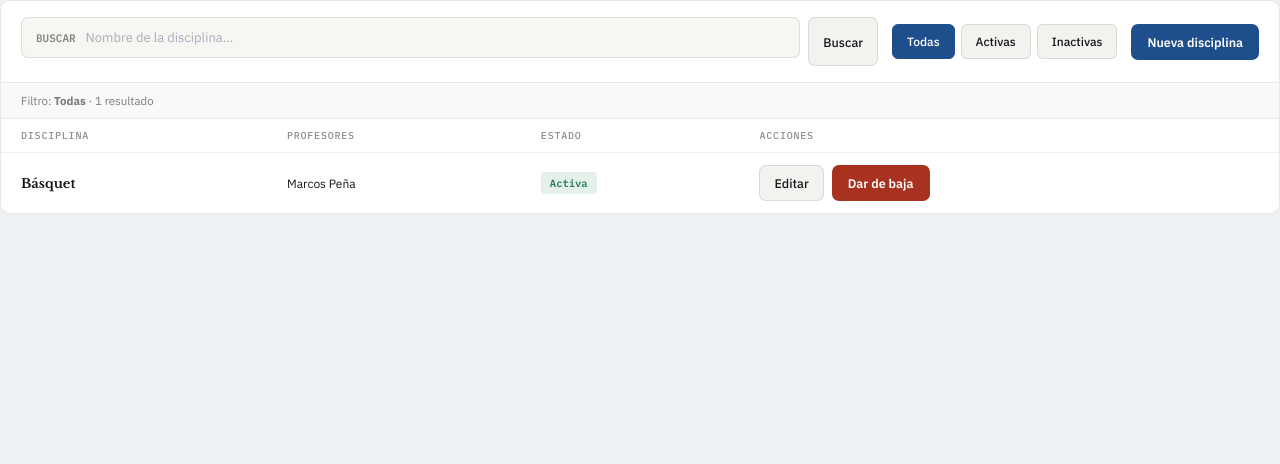
Test: DisciplinesView create and edit › keeps the status tab and search when coming back from the form
Expected: the text "Básquet" is shown, [21,174,75,192]
Click the radio button labelled "Activas" at (996, 42), box [961,24,1031,59]
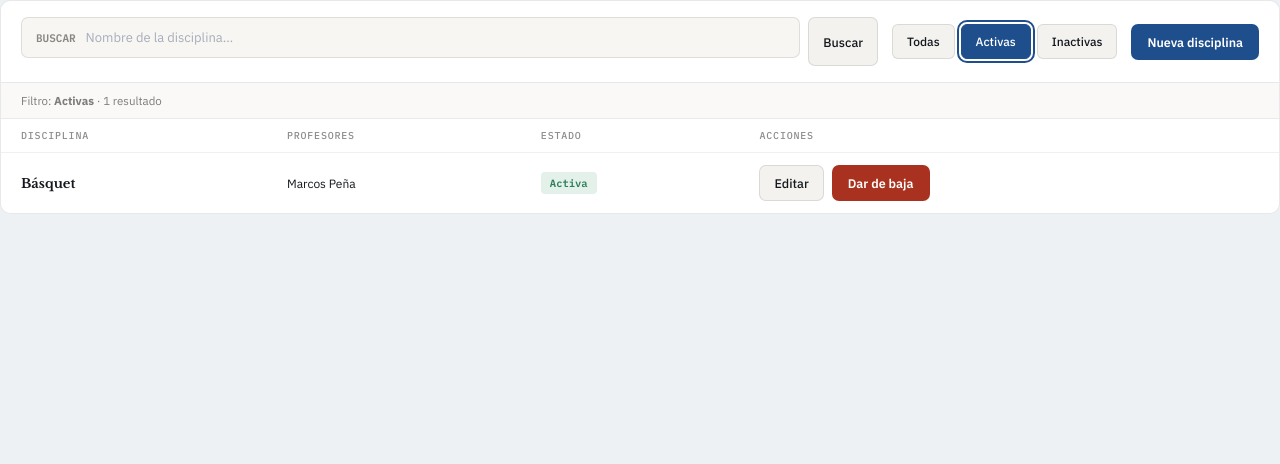
Type "bás" into the search field named "Buscar disciplina" at (436, 38), box [86,29,785,46]
Then press Enter
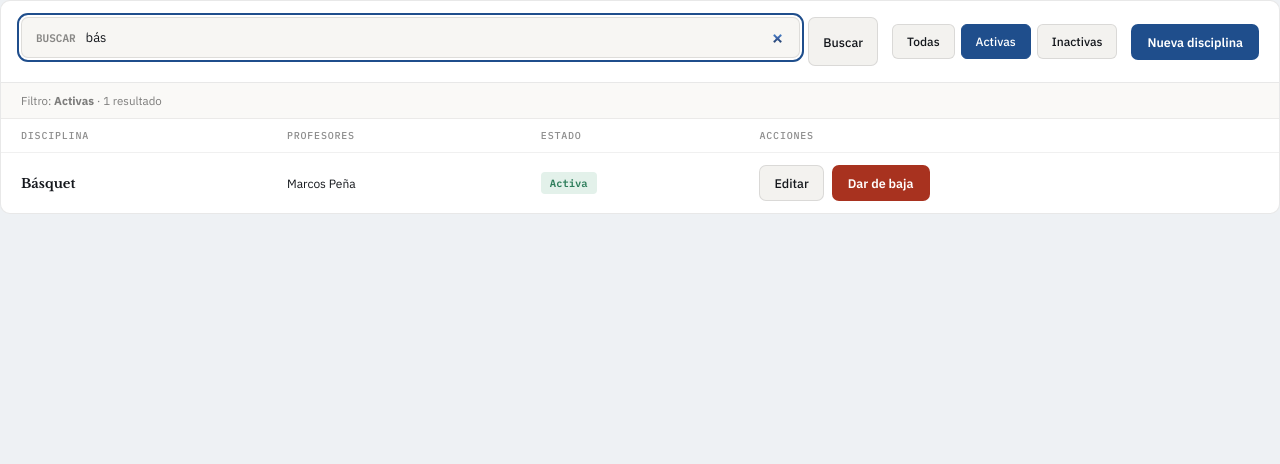
Click the button with aria-label "Editar Básquet" at (792, 183), box [760,165,824,201]
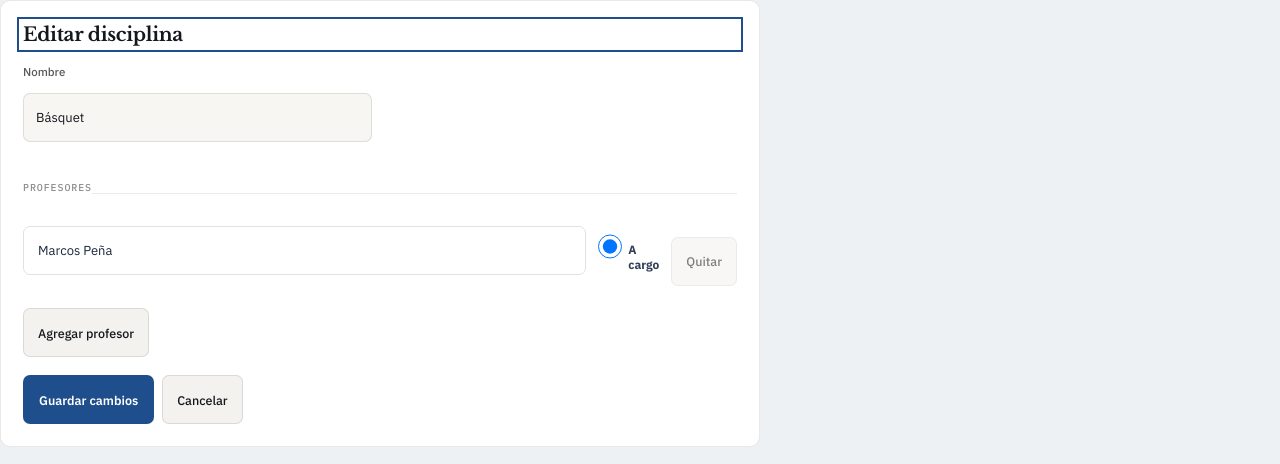
Click the button "Cancelar" at (202, 400), box [162,375,243,424]
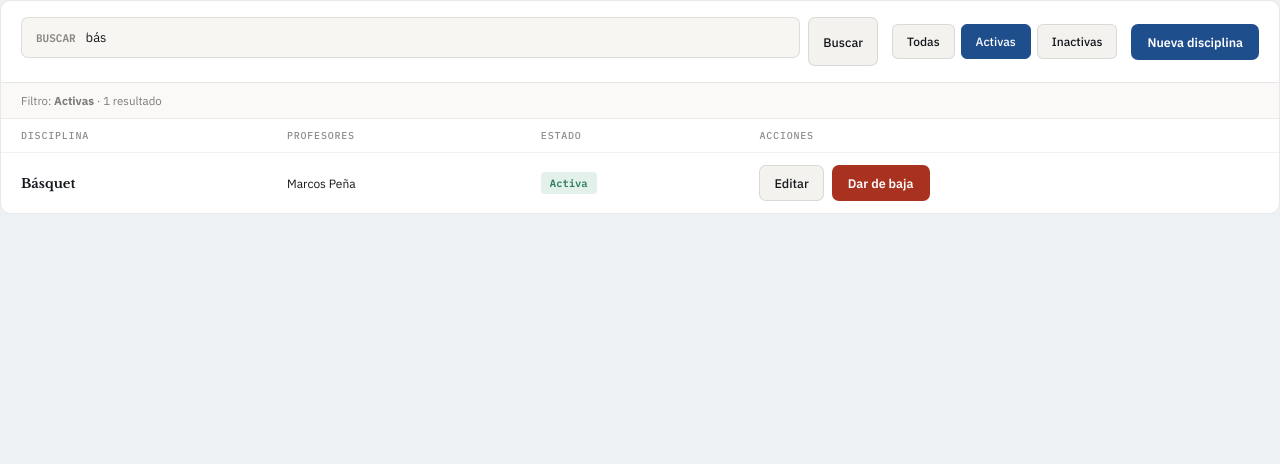
Expected: the table named "Listado de disciplinas" is shown, [1,119,1279,213]
Expected: the radio button labelled "Activas" is checked, [961,24,1031,59]
Expected: the search field named "Buscar disciplina" holds "bás", [86,29,785,46]
